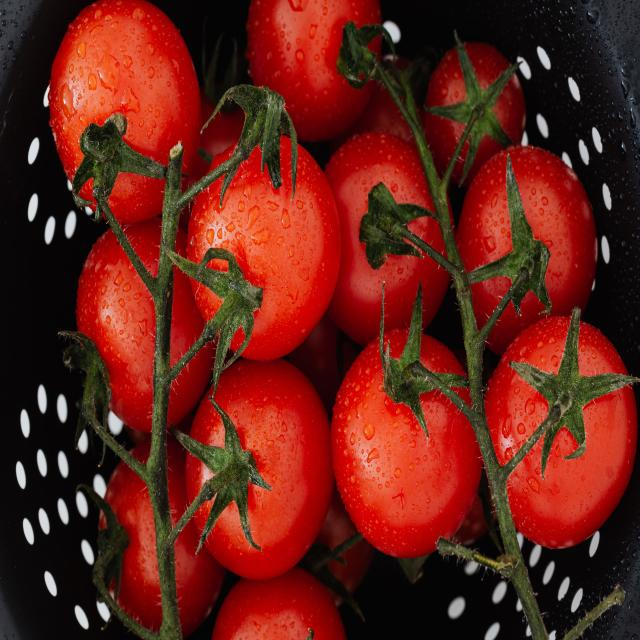Tomato: (336, 315, 486, 577), (191, 145, 343, 361), (495, 302, 630, 542), (173, 369, 334, 563), (40, 0, 188, 210), (462, 144, 602, 344), (330, 129, 449, 337)
